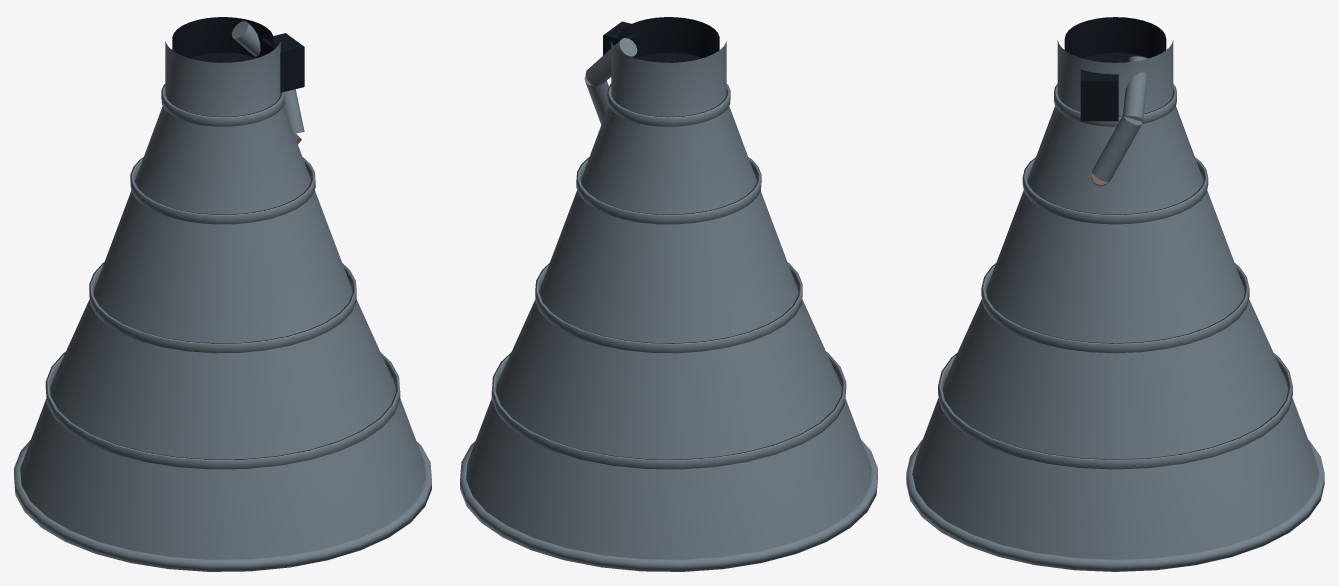
File: merlin_vac_engine.glb
The picture shows the model from 3 angles, left to right: view 1: azimuth 30°, elevation 25°; view 2: azimuth 150°, elevation 25°; view 3: azimuth 270°, elevation 25°; orthographic projection.
Visible parts, largest first — view 1: falcon9_stage_2merlin_vacbellmesh_Machined_steel, falcon9_stage_2merlin_vacbellmesh_Shadowed_interior, merlin_vac_engine.simplified_feed_hardware.mesh_Shadowed_int, merlin_vac_engine.simplified_feed_hardware.mesh_Machined_ste; view 2: falcon9_stage_2merlin_vacbellmesh_Machined_steel, falcon9_stage_2merlin_vacbellmesh_Shadowed_interior, merlin_vac_engine.simplified_feed_hardware.mesh_Machined_ste, merlin_vac_engine.simplified_feed_hardware.mesh_Shadowed_int; view 3: falcon9_stage_2merlin_vacbellmesh_Machined_steel, falcon9_stage_2merlin_vacbellmesh_Shadowed_interior, merlin_vac_engine.simplified_feed_hardware.mesh_Machined_ste, merlin_vac_engine.simplified_feed_hardware.mesh_Shadowed_int.
Boxes of the visible parts, left/top/right/bottom form: falcon9_stage_2merlin_vacbellmesh_Machined_steel: left=14, top=41, right=431, bottom=571; falcon9_stage_2merlin_vacbellmesh_Shadowed_interior: left=172, top=17, right=273, bottom=62; merlin_vac_engine.simplified_feed_hardware.mesh_Shadowed_int: left=261, top=33, right=304, bottom=92; merlin_vac_engine.simplified_feed_hardware.mesh_Machined_ste: left=231, top=21, right=304, bottom=133; falcon9_stage_2merlin_vacbellmesh_Machined_steel: left=460, top=41, right=877, bottom=571; falcon9_stage_2merlin_vacbellmesh_Shadowed_interior: left=618, top=17, right=719, bottom=62; merlin_vac_engine.simplified_feed_hardware.mesh_Machined_ste: left=584, top=38, right=637, bottom=124; merlin_vac_engine.simplified_feed_hardware.mesh_Shadowed_int: left=603, top=21, right=639, bottom=58; falcon9_stage_2merlin_vacbellmesh_Machined_steel: left=906, top=40, right=1324, bottom=571; falcon9_stage_2merlin_vacbellmesh_Shadowed_interior: left=1064, top=17, right=1166, bottom=62; merlin_vac_engine.simplified_feed_hardware.mesh_Machined_ste: left=1092, top=56, right=1147, bottom=181; merlin_vac_engine.simplified_feed_hardware.mesh_Shadowed_int: left=1080, top=69, right=1118, bottom=121.
Bounding box in the file's own units: 2.65 × 3.11 × 2.65.
